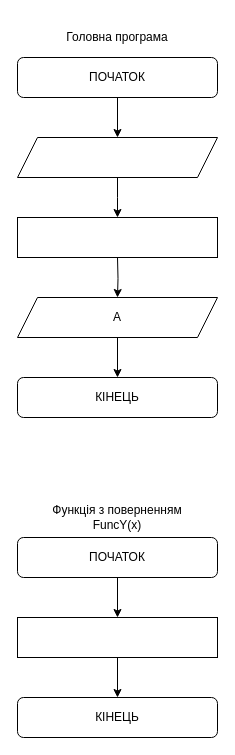
The diagram is 235 pixels wide and 755 high, and some of its shapes have lost their labels. The centre of each missing label's shape, as x and y in pixels:
A = ( pow(FuncY(x), 2) + pow(FuncY(y), 2) ) / 2: [117,237]
return ( pow(x, 5) * pow( cos( 1.0 / x), 2 ) ): [117,637]
x, y: [117,157]
